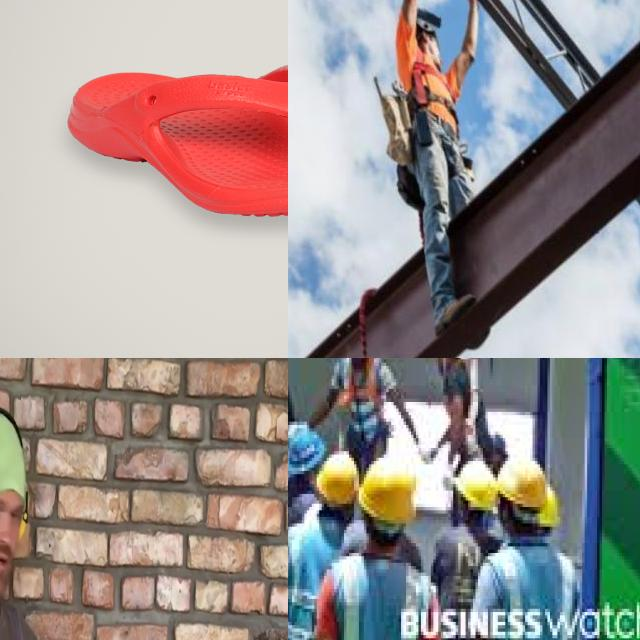Ear-protection: (0, 406, 30, 608)
Harness: (404, 49, 461, 131), (445, 358, 479, 452), (333, 358, 383, 415)
Sandals: (65, 61, 288, 219)
